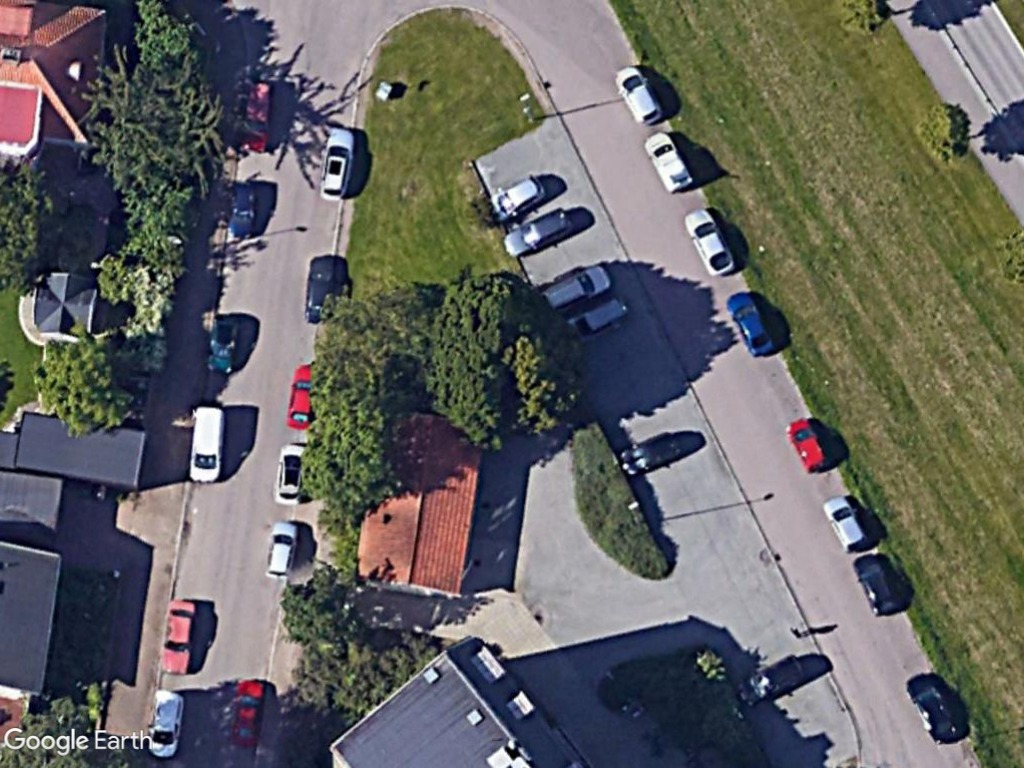car: (497, 204, 576, 261), (682, 205, 740, 280), (536, 262, 616, 315), (723, 287, 778, 359), (157, 595, 202, 678), (226, 671, 268, 756), (614, 60, 665, 129), (316, 122, 356, 205), (822, 492, 872, 555), (786, 413, 831, 479), (487, 171, 547, 220), (204, 309, 245, 378), (262, 517, 302, 583), (224, 174, 261, 241)
van: (640, 130, 697, 196), (186, 400, 228, 487), (146, 687, 187, 761)
